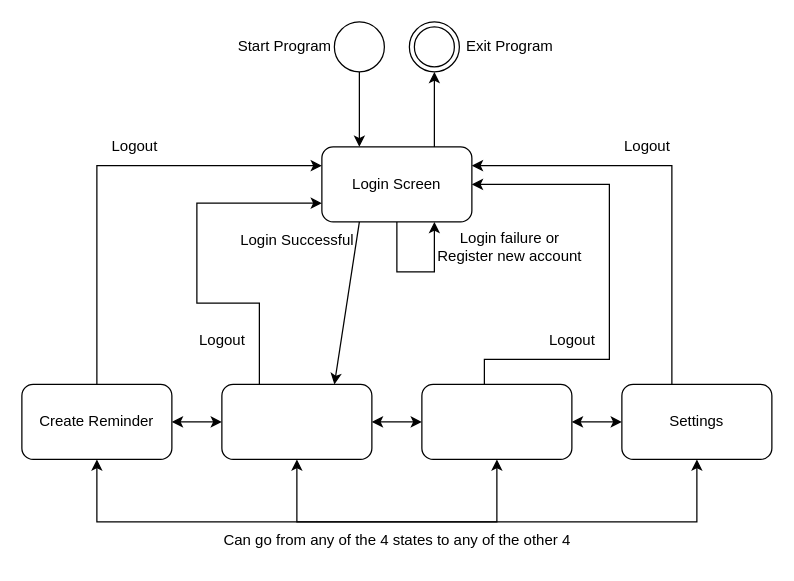
Image size: 794x581. Some labels were removed from this diagram. The box of each missing label's shape, as (x1, y1, x2, y2) in pixels:
All Reminders: (421, 383, 572, 459)
Dashboard: (221, 383, 372, 459)
